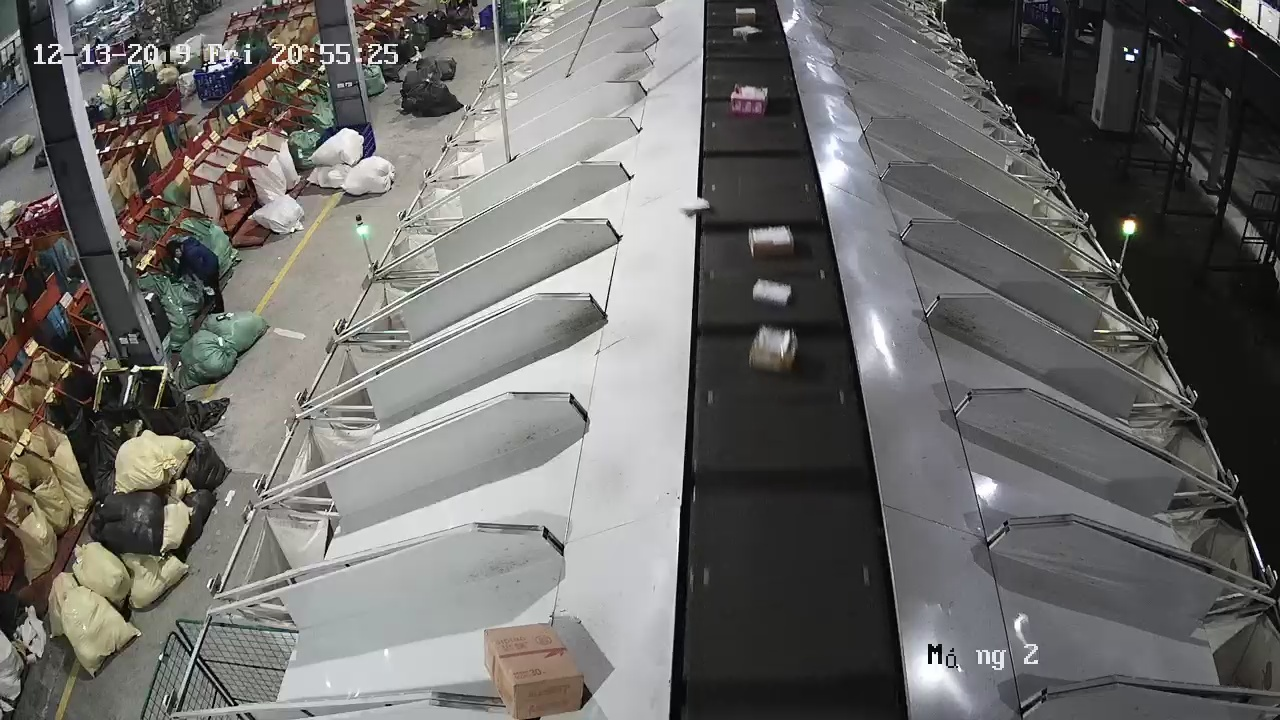parcel: (679, 196, 710, 216)
